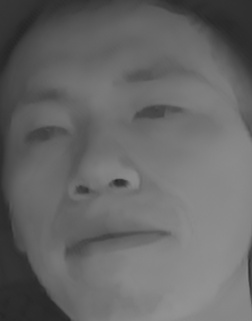eye: (15, 119, 74, 154), (132, 97, 191, 131)
mouth: (62, 212, 173, 271)
